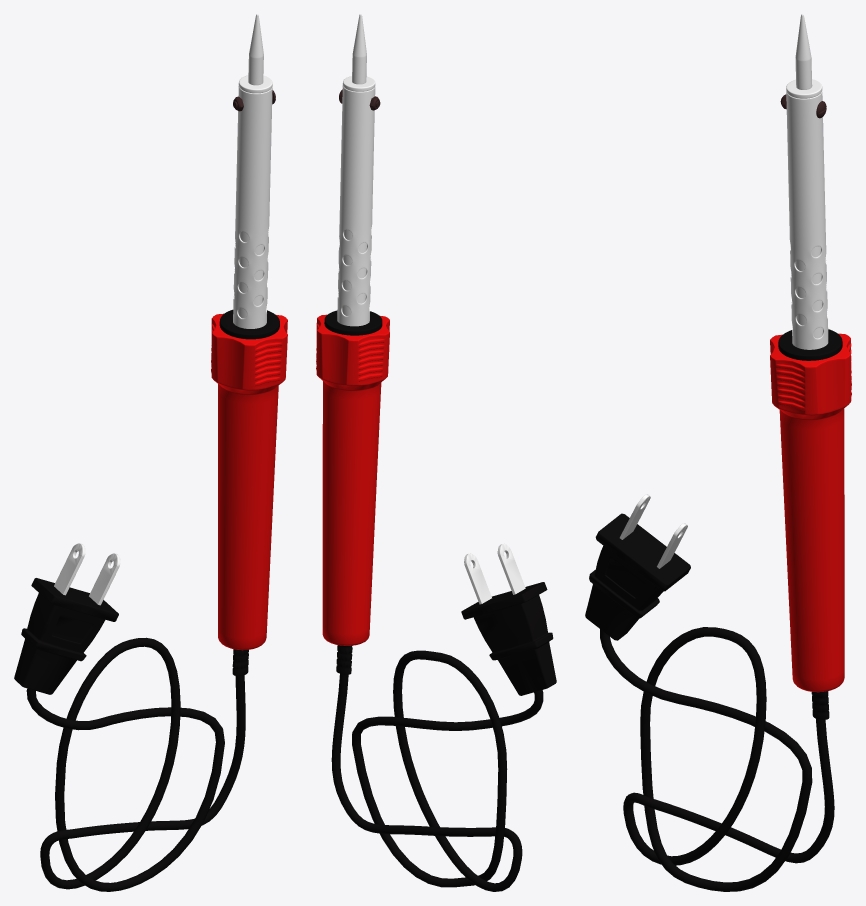
Rendered from scene_soldering_iron.obj.
The picture shows the model from 3 angles, left to right: view 1: azimuth 30°, elevation 25°; view 2: azimuth 150°, elevation 25°; view 3: azimuth 330°, elevation 25°; orthographic projection. The views are drawn at different scales.
Parts seen in each view (by area): view 1: 平面.009, 电烙铁; view 2: 平面.009, 电烙铁; view 3: 平面.009, 电烙铁.
Part boxes in pixels (x1,y1,x2,y2): 平面.009: (211, 14, 287, 650); 电烙铁: (14, 543, 248, 891); 平面.009: (316, 14, 389, 645); 电烙铁: (331, 544, 556, 891); 平面.009: (770, 14, 851, 692); 电烙铁: (585, 494, 834, 891).
Size of the model in its own units: 4073 by 13145 by 1099.
